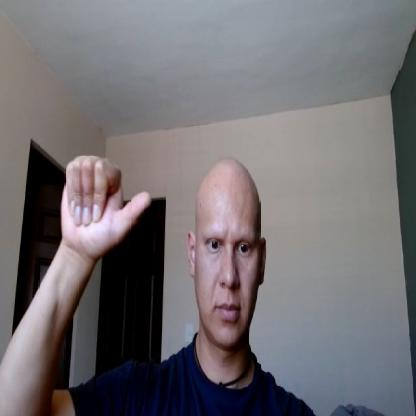A: (60, 154, 152, 258)
